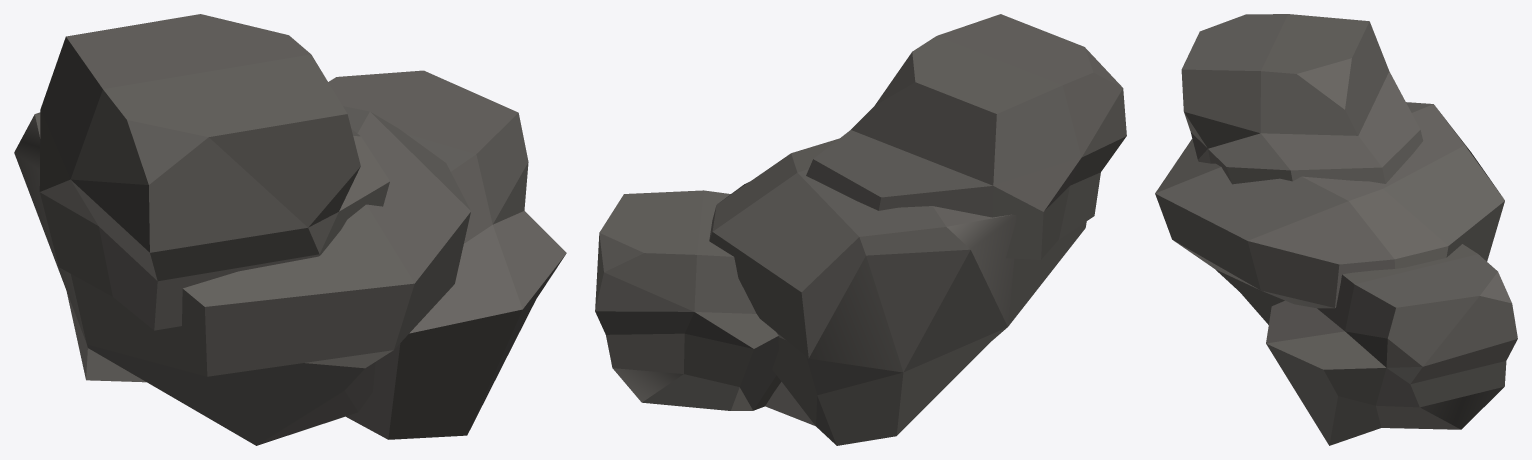
File: env_rock_chunk3.gltf
3 renders of one model, left to right at view 1: azimuth 30°, elevation 25°; view 2: azimuth 150°, elevation 25°; view 3: azimuth 270°, elevation 25°, orthographic. The views are drawn at different scales.
Parts seen in each view (by area): view 1: env_rock_chunk3; view 2: env_rock_chunk3; view 3: env_rock_chunk3.
Boxes of the visible parts, x1,y1,x2,y2 form: env_rock_chunk3: (14, 14, 566, 445); env_rock_chunk3: (595, 14, 1126, 445); env_rock_chunk3: (1155, 14, 1517, 445).
Size of the model in its own units: 3.71 by 3.11 by 3.31.
Materials: 1 (1 with a texture image).
